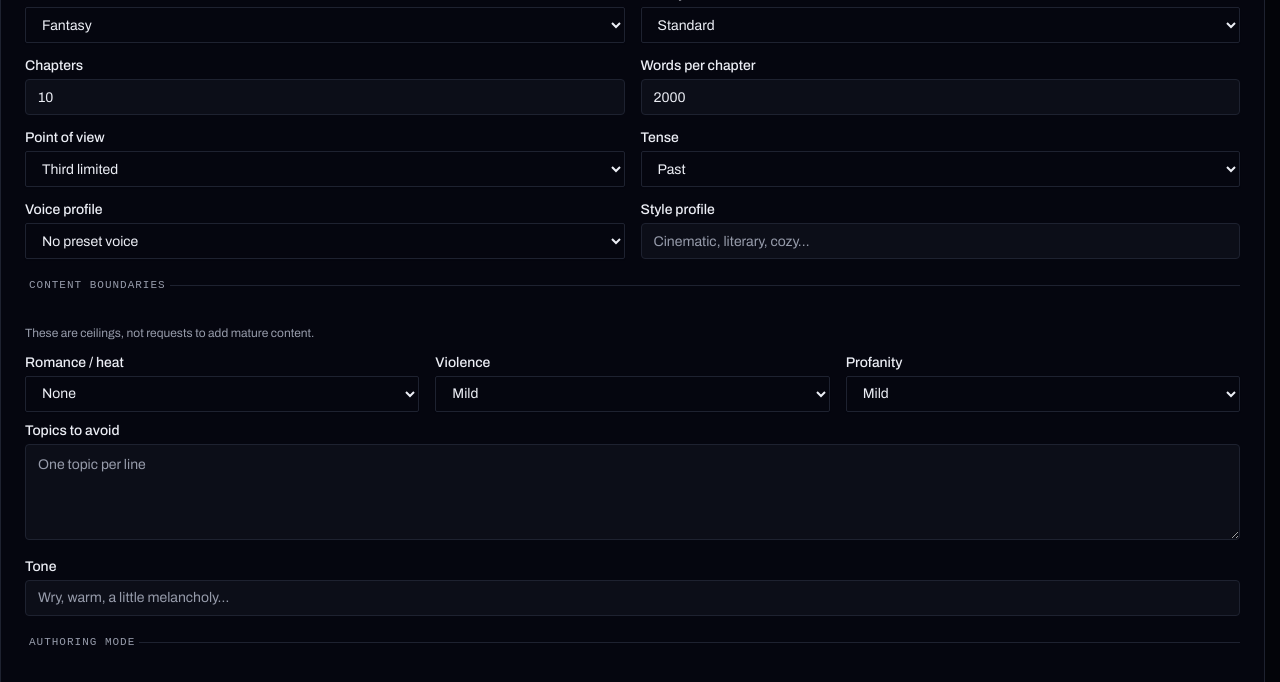
it: ProjectSettingsForm › keeps the author's edited values in the form after a successful save
The width and height of the screenshot is (1280, 682).
Replace the text in the number field labelled "Chapters" with "14": (325, 97) x1=25 y1=79 x2=624 y2=115
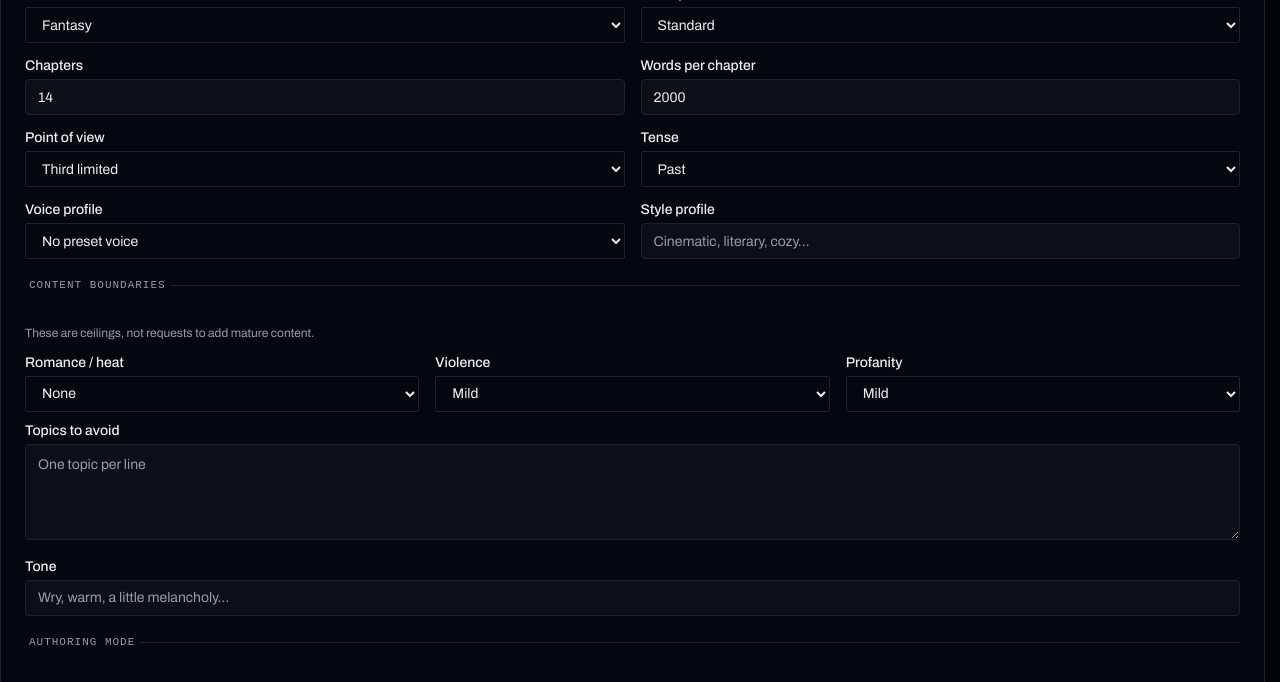
In the field labelled "Tone": (632, 598) x1=25 y1=580 x2=1240 y2=616, type "Hopeful and strange"
(page scrolled)
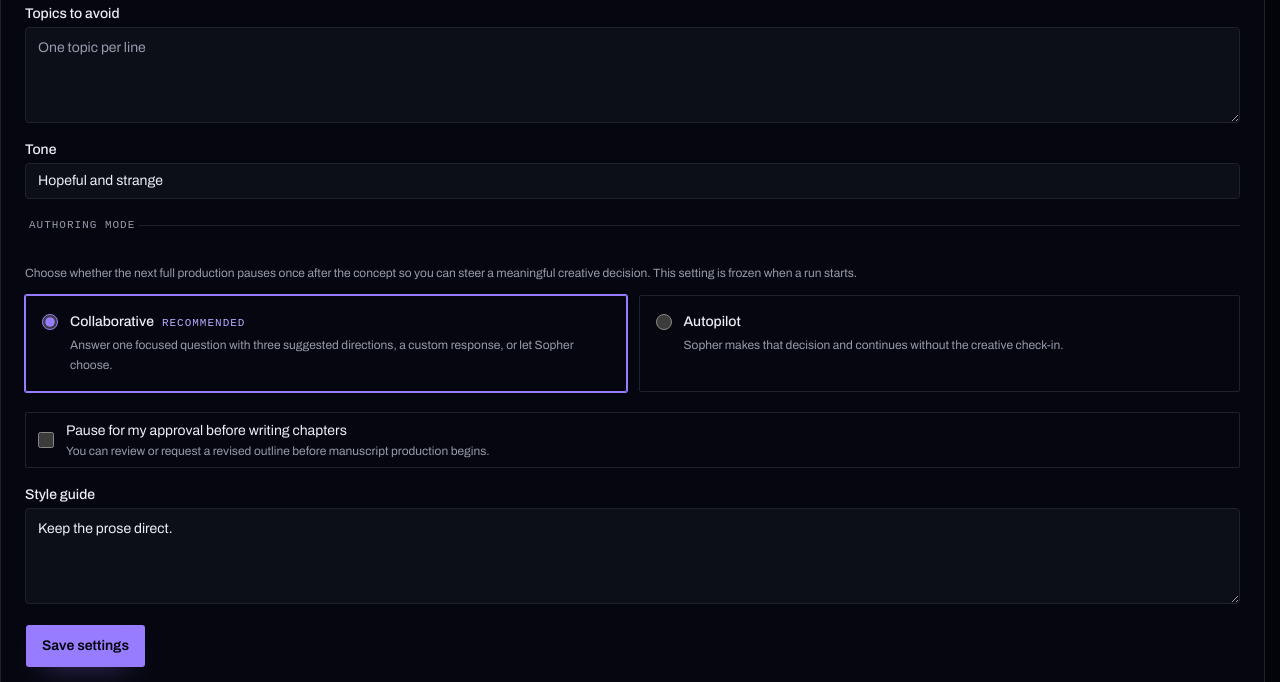
Click the radio button labelled "Autopilot": (664, 322) x1=656 y1=314 x2=672 y2=330
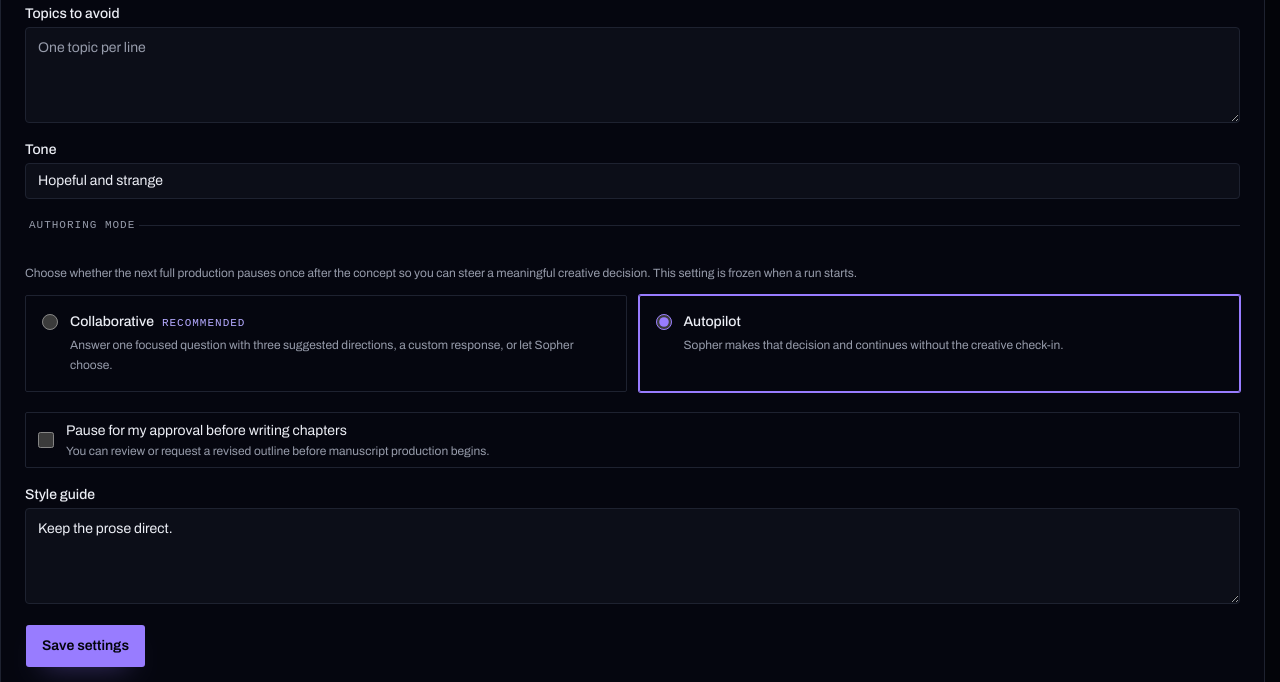
Click the button "Save settings": (86, 646) x1=25 y1=624 x2=146 y2=668
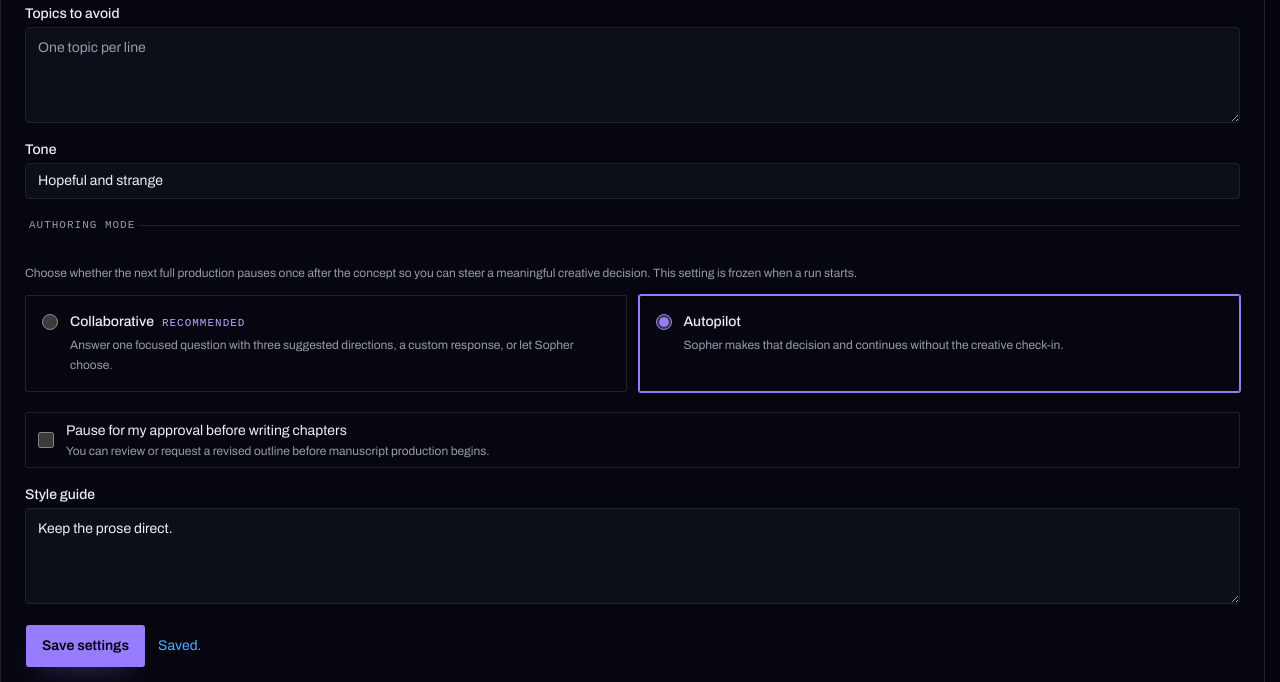
Now the message reads "Saved.", box x1=158 y1=638 x2=202 y2=653
